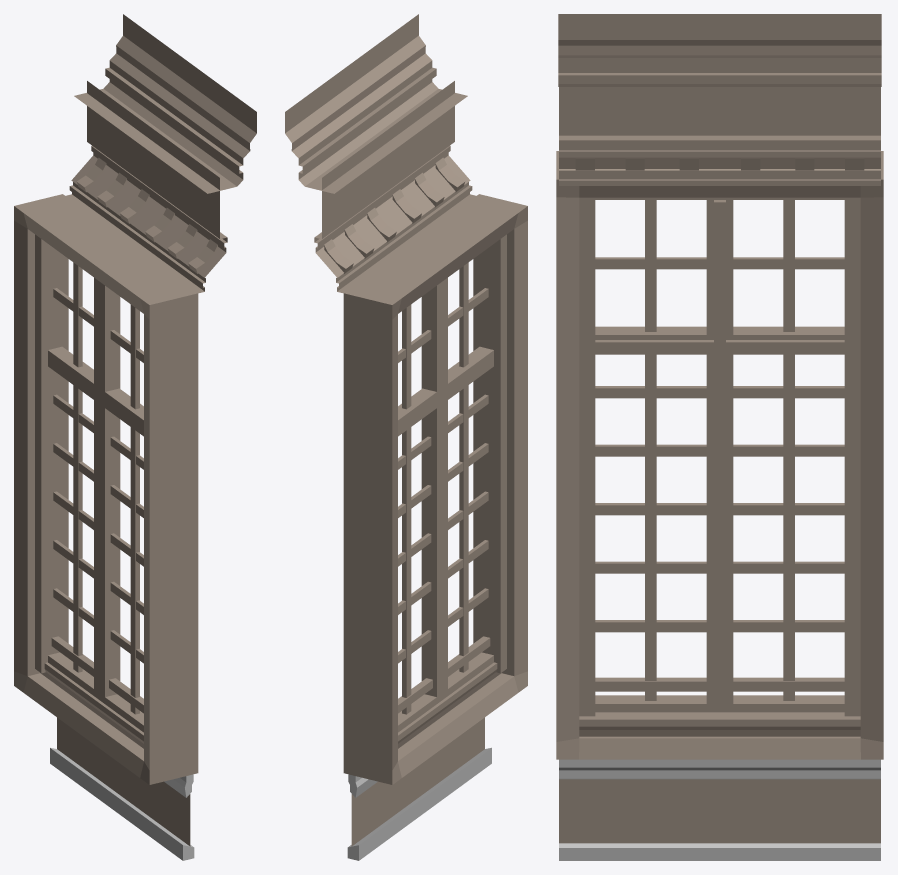
The model's file is Wall_MansionWindow.fbx.
3 views of the same model, side by side, from view 1: azimuth 30°, elevation 25°; view 2: azimuth 150°, elevation 25°; view 3: azimuth 270°, elevation 25° (orthographic). The views are drawn at different scales.
Visible parts, largest first — view 1: Wall_MansionWindow; view 2: Wall_MansionWindow; view 3: Wall_MansionWindow.
Boxes of the visible parts, bbox=[...] form: Wall_MansionWindow: bbox=[14, 14, 256, 860]; Wall_MansionWindow: bbox=[285, 14, 527, 860]; Wall_MansionWindow: bbox=[556, 14, 883, 860].
Bounding box in the file's own units: 94.08 × 607 × 204.
